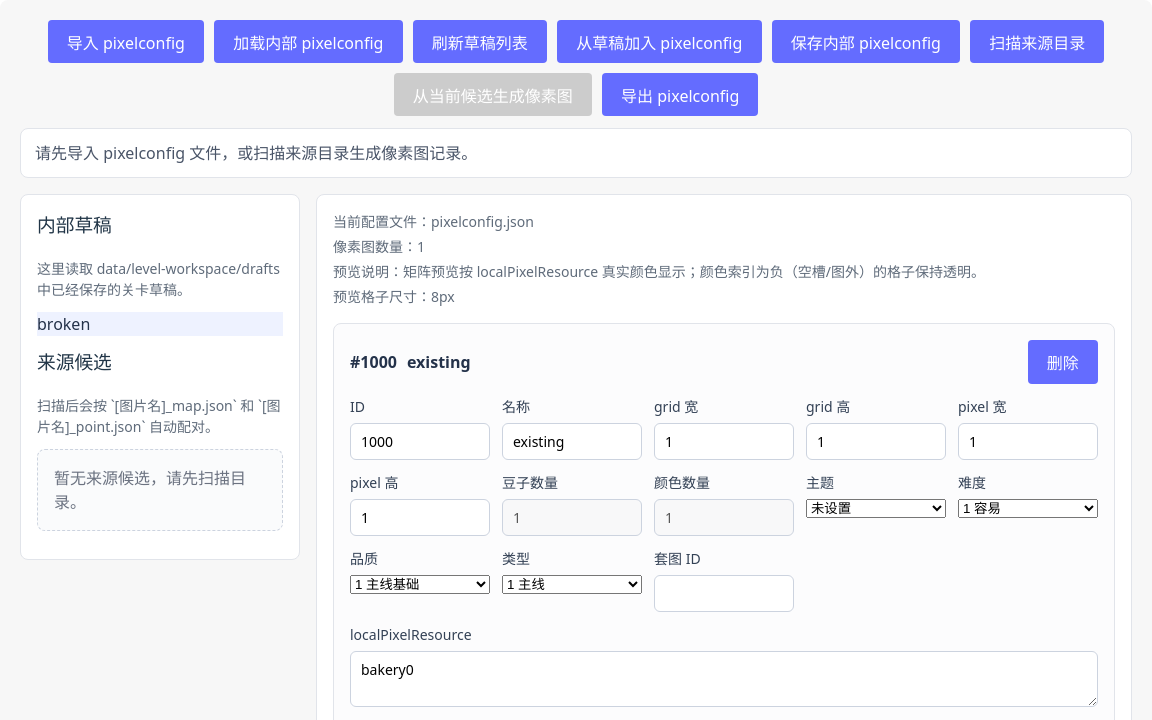
Test: PixelConfigPage internal workspace management › warns and aborts when a selected internal draft has invalid format
Click the button "从草稿加入 pixelconfig": x=659, y=42 x1=557 y1=20 x2=762 y2=63
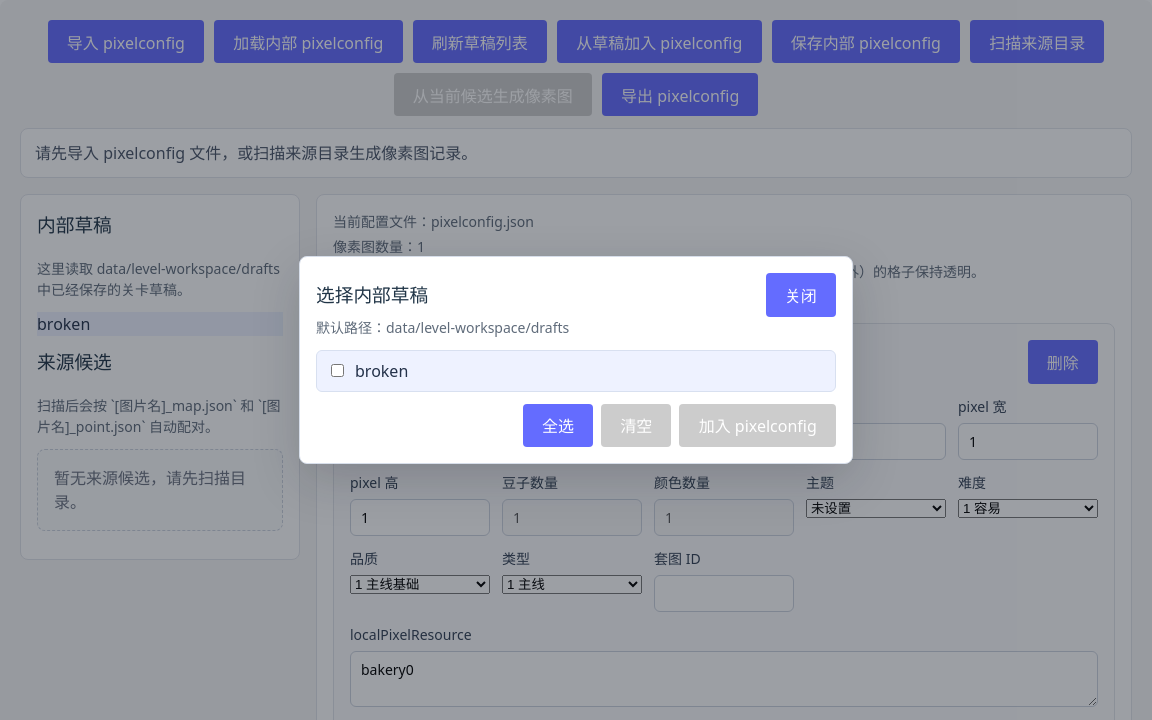
Click the checkbox labelled "broken": x=338, y=370 x1=331 y1=364 x2=344 y2=377
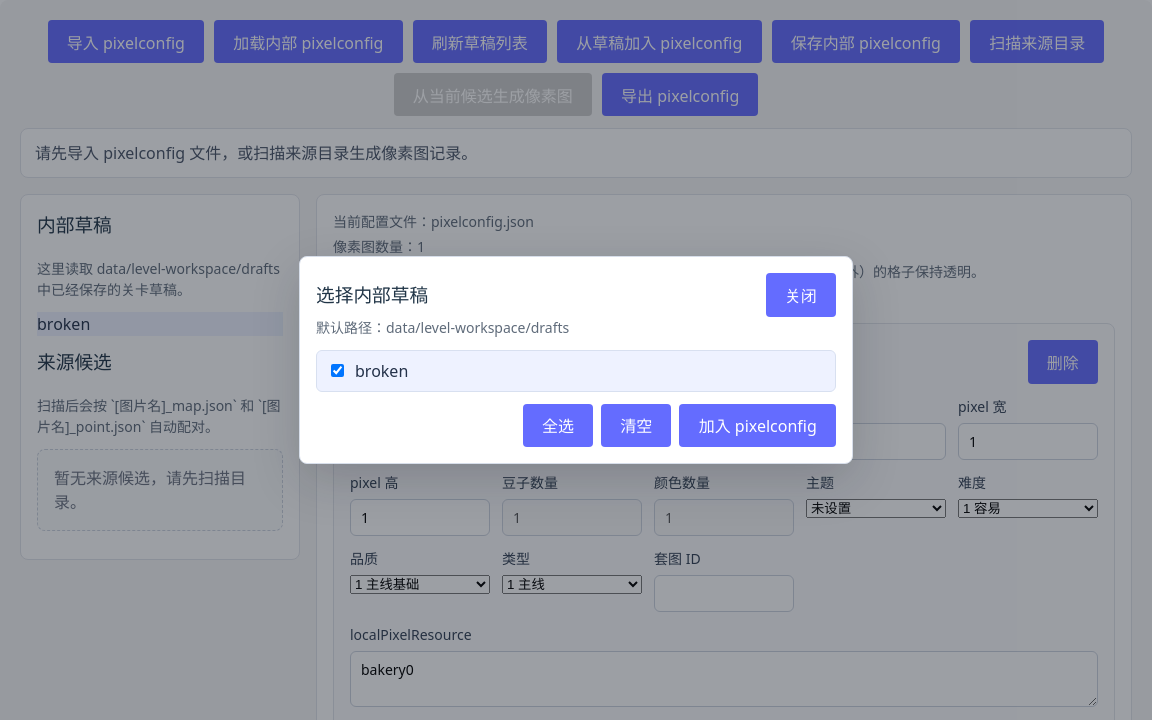
Click the button "加入 pixelconfig": x=758, y=425 x1=680 y1=404 x2=836 y2=447
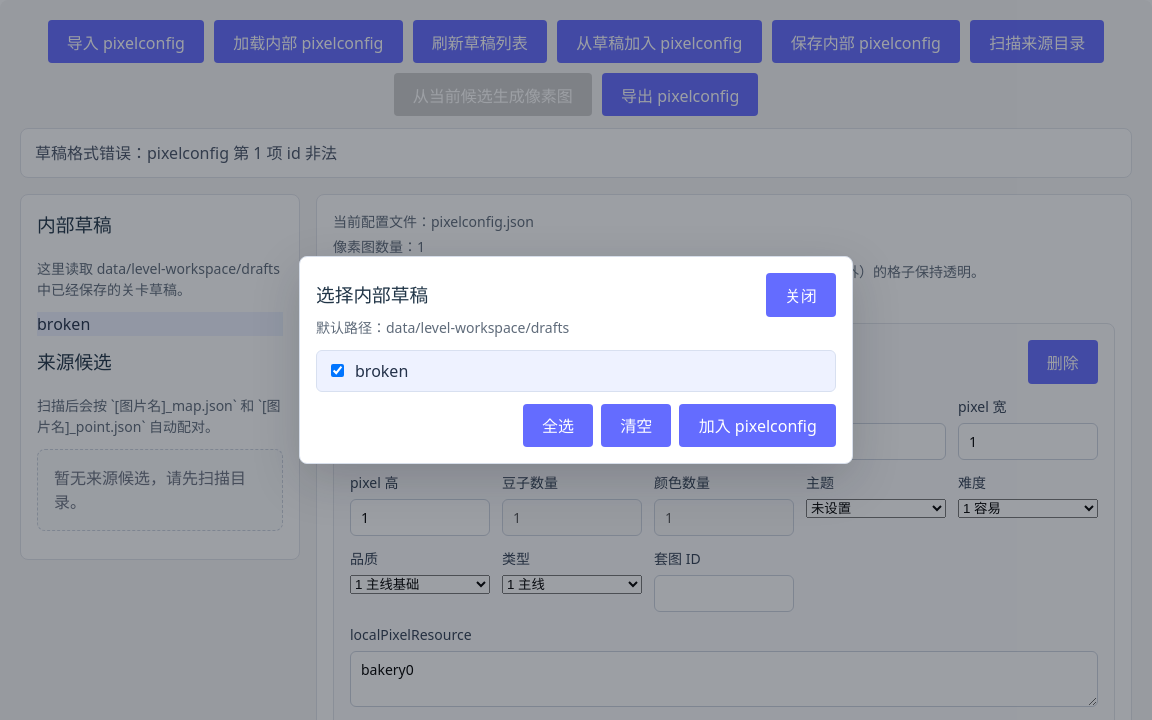
Check: the text "格式错误" is shown, box x1=35 y1=142 x2=337 y2=164
